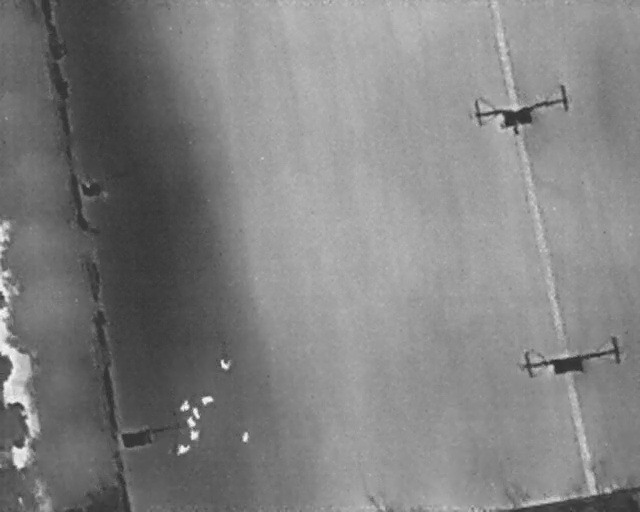Person: (176, 444, 191, 455), (220, 358, 231, 370), (202, 396, 214, 406), (186, 416, 195, 428), (193, 407, 201, 420), (191, 429, 199, 441), (181, 401, 189, 412), (241, 431, 249, 442)
